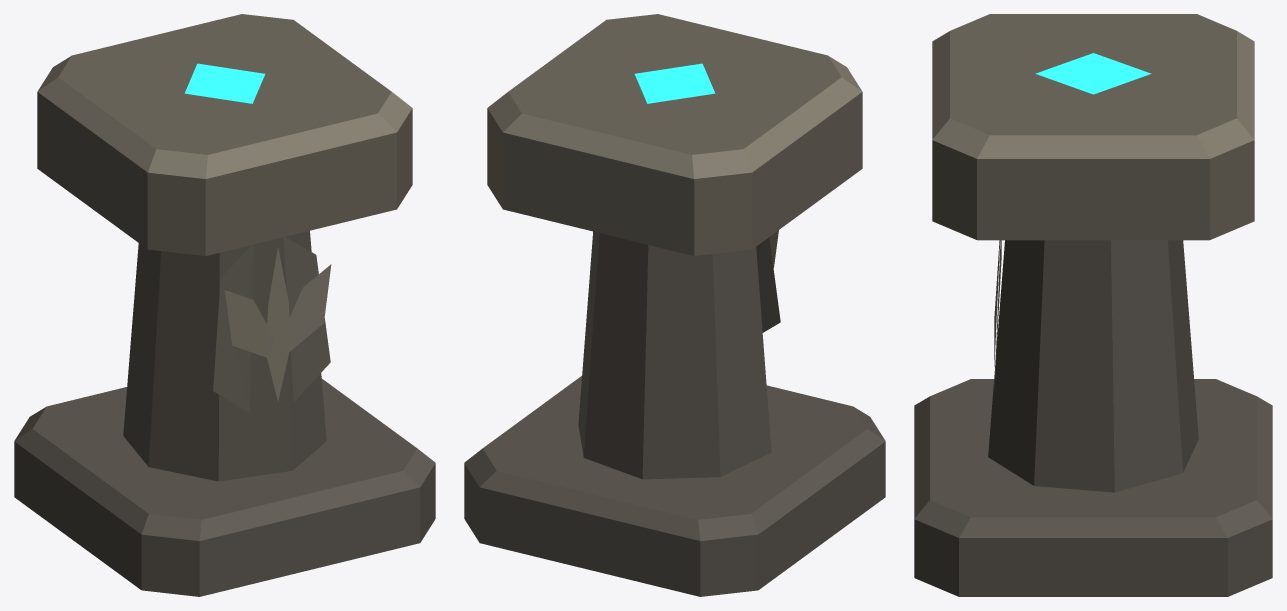
File: key_pedestal_garden.glb
3 views of the same model, side by side, from view 1: azimuth 30°, elevation 25°; view 2: azimuth 150°, elevation 25°; view 3: azimuth 270°, elevation 25° (orthographic). The views are drawn at different scales.
Parts seen in each view (by area): view 1: Body_key_pedestal_garden.001, Interactive_Pedestal_Rune; view 2: Body_key_pedestal_garden.001, Interactive_Pedestal_Rune; view 3: Body_key_pedestal_garden.001, Interactive_Pedestal_Rune.
Boxes of the visible parts, x1,y1,x2,y2 form: Body_key_pedestal_garden.001: (14, 14, 435, 596); Interactive_Pedestal_Rune: (184, 63, 265, 103); Body_key_pedestal_garden.001: (464, 14, 885, 596); Interactive_Pedestal_Rune: (634, 63, 715, 103); Body_key_pedestal_garden.001: (914, 14, 1272, 596); Interactive_Pedestal_Rune: (1035, 53, 1151, 94).
Bounding box in the file's own units: 0.8 × 1.1 × 0.8.
